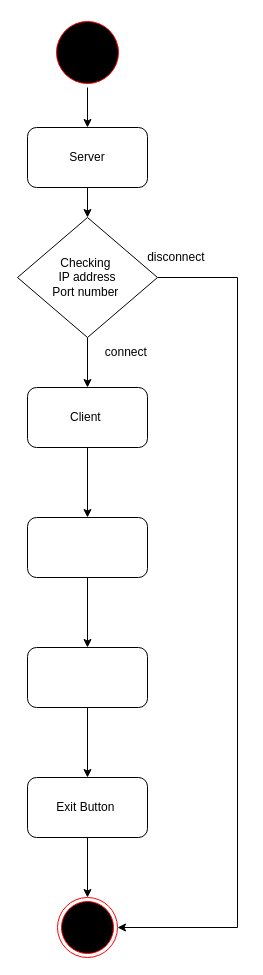
This 263x975 diagram has some shape labels left out. The box of each missing label's shape, as (x1, y1, x2, y2) in pixels:
Enter on Chatting Frame: (26, 516, 148, 578)
Send & Receive messages: (26, 646, 148, 708)
